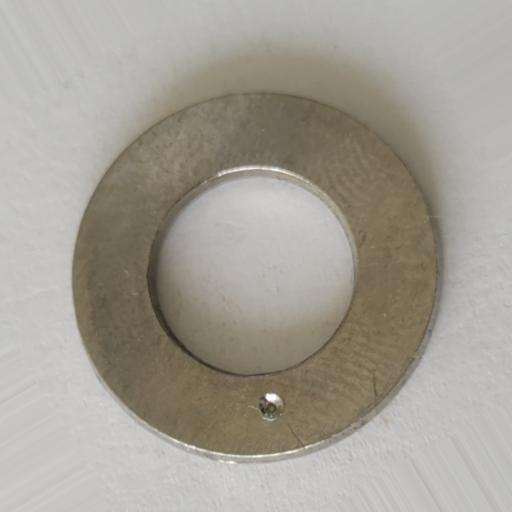circular_cavity: (256, 392, 287, 421)
